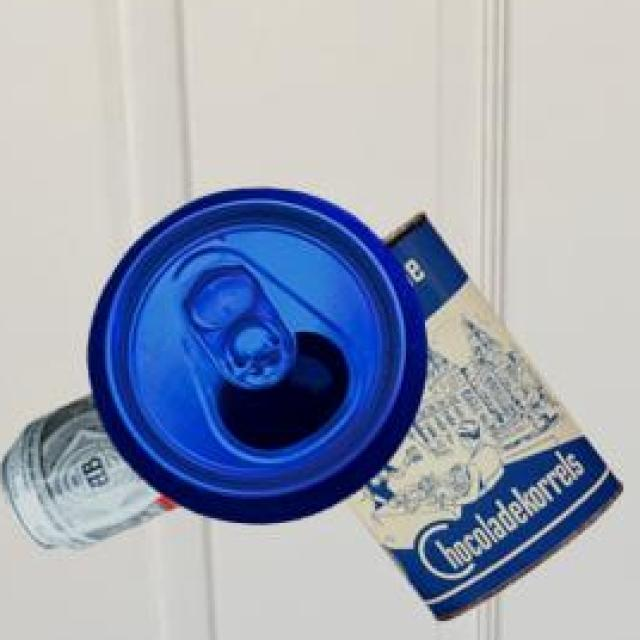logam: (343, 209, 620, 617), (85, 187, 421, 519), (0, 390, 176, 546)
